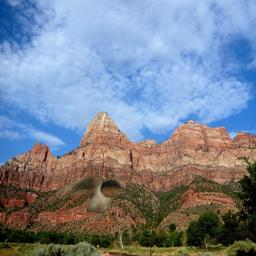Swallow: (69, 173, 123, 216)
